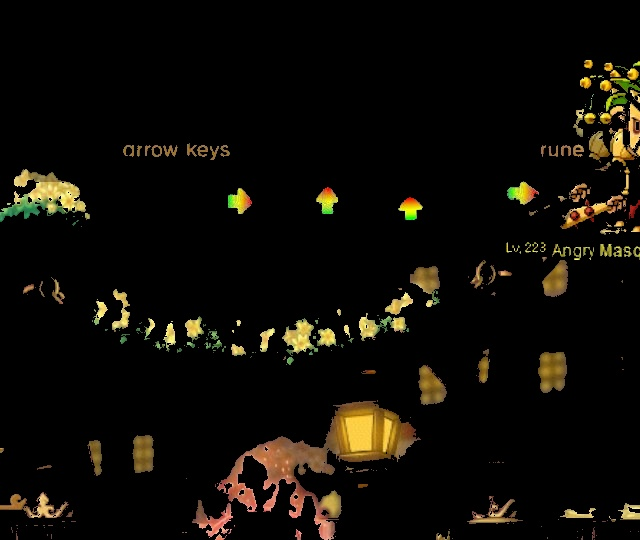right: (219, 182, 264, 223), (500, 173, 544, 214)
up: (391, 189, 432, 225), (307, 182, 341, 217)
